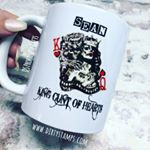cups: (3, 1, 132, 136)
